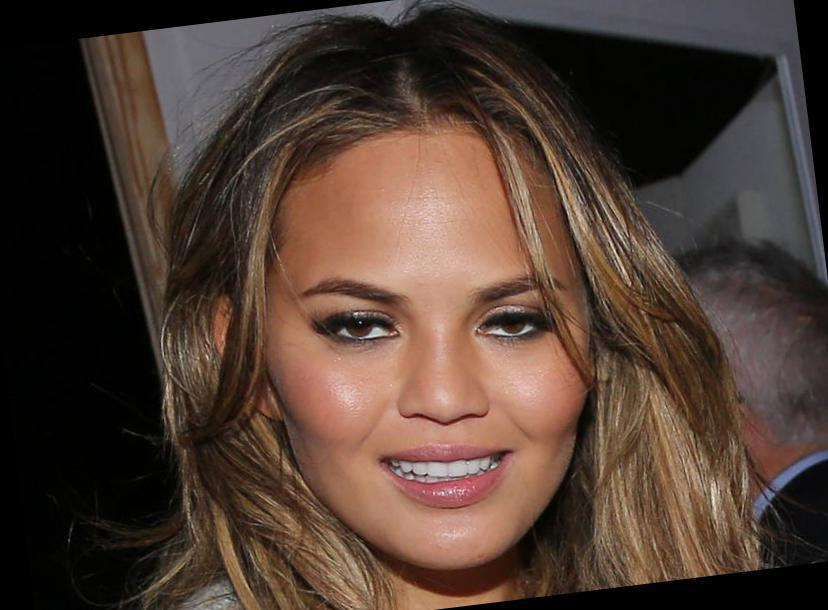Drunk: (282, 150, 582, 563)
